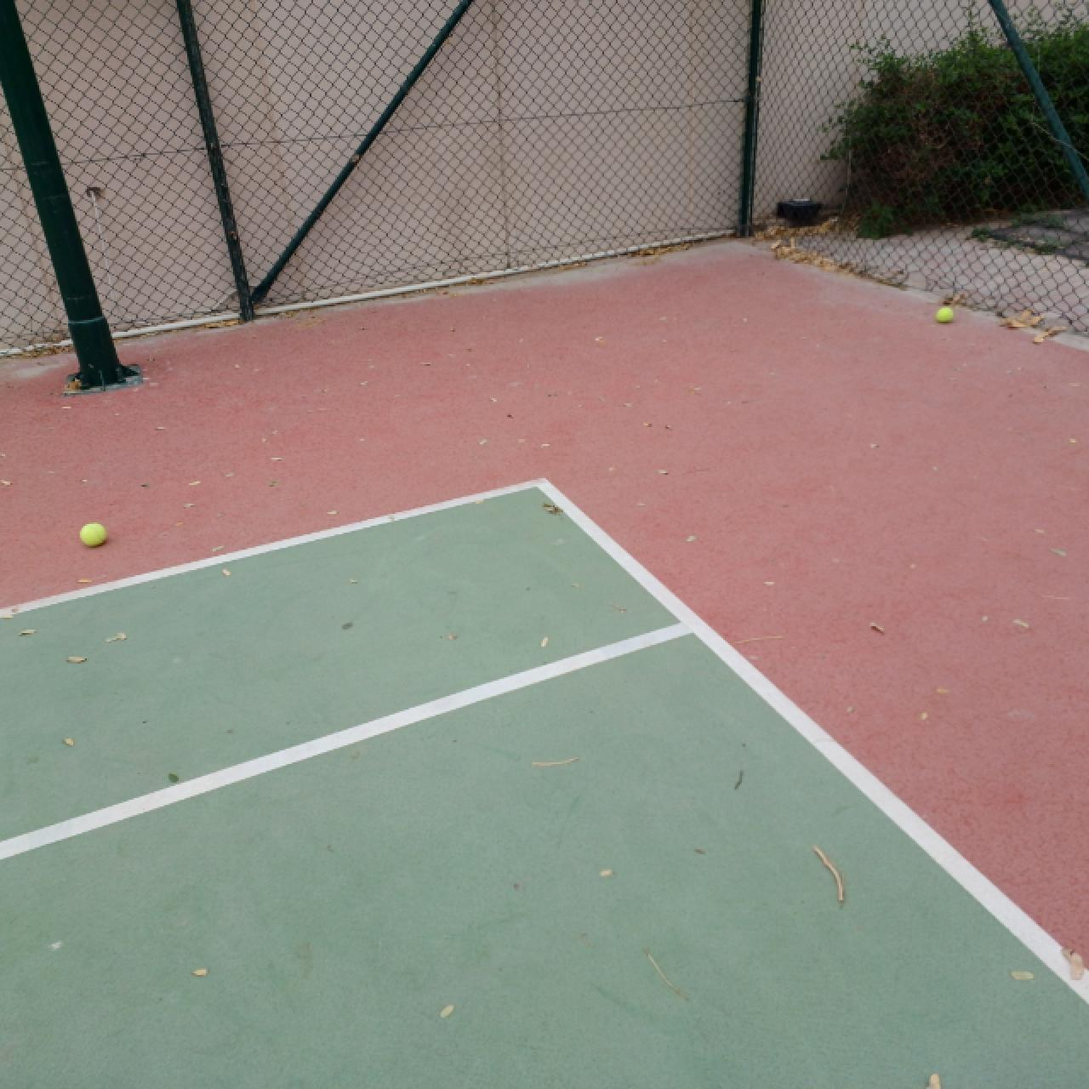tennis-ball: (81, 521, 108, 547), (934, 305, 956, 323)
